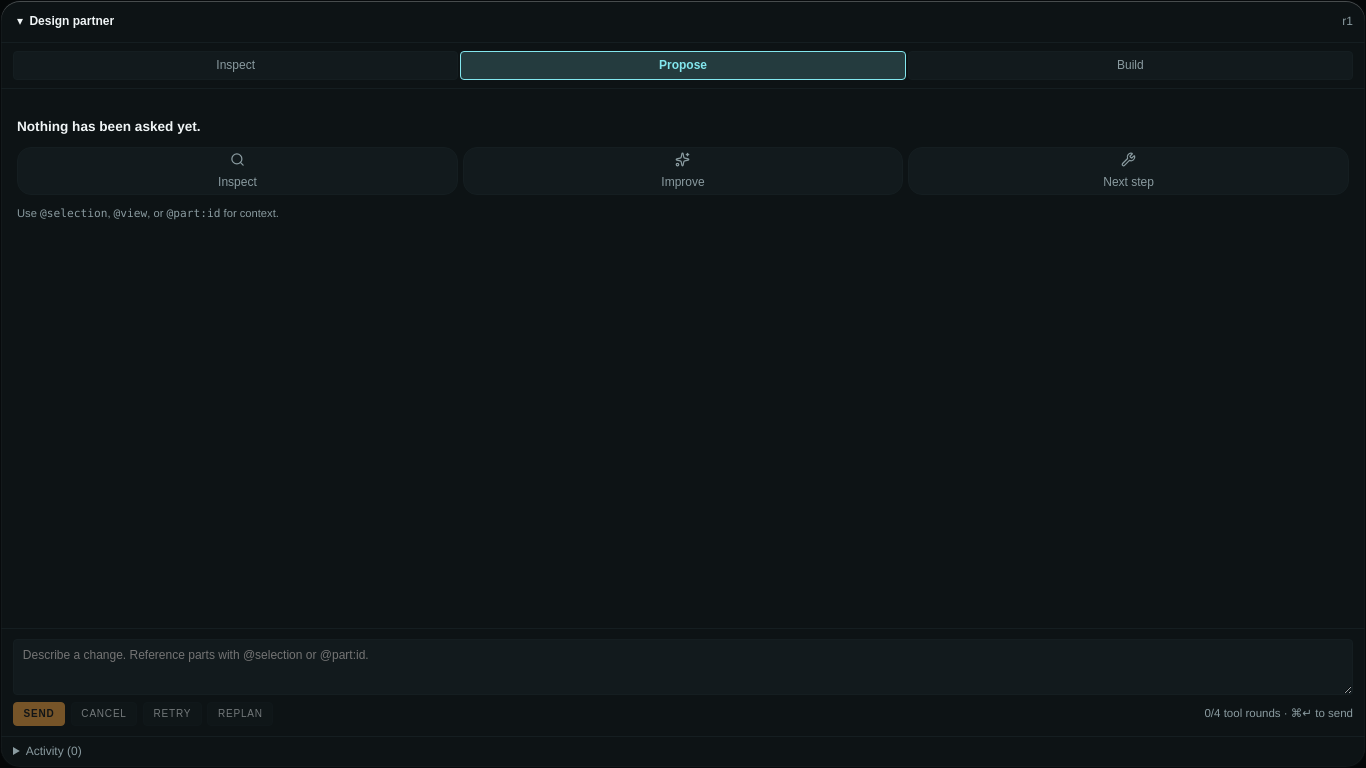
Scenario: AgentWorkbench › reviews a proposed wave, and accepting it moves the document
Replace the text in the text box named "Ask the design partner" with "Rename the project" at {"x": 683, "y": 666}, box [13, 638, 1353, 694]
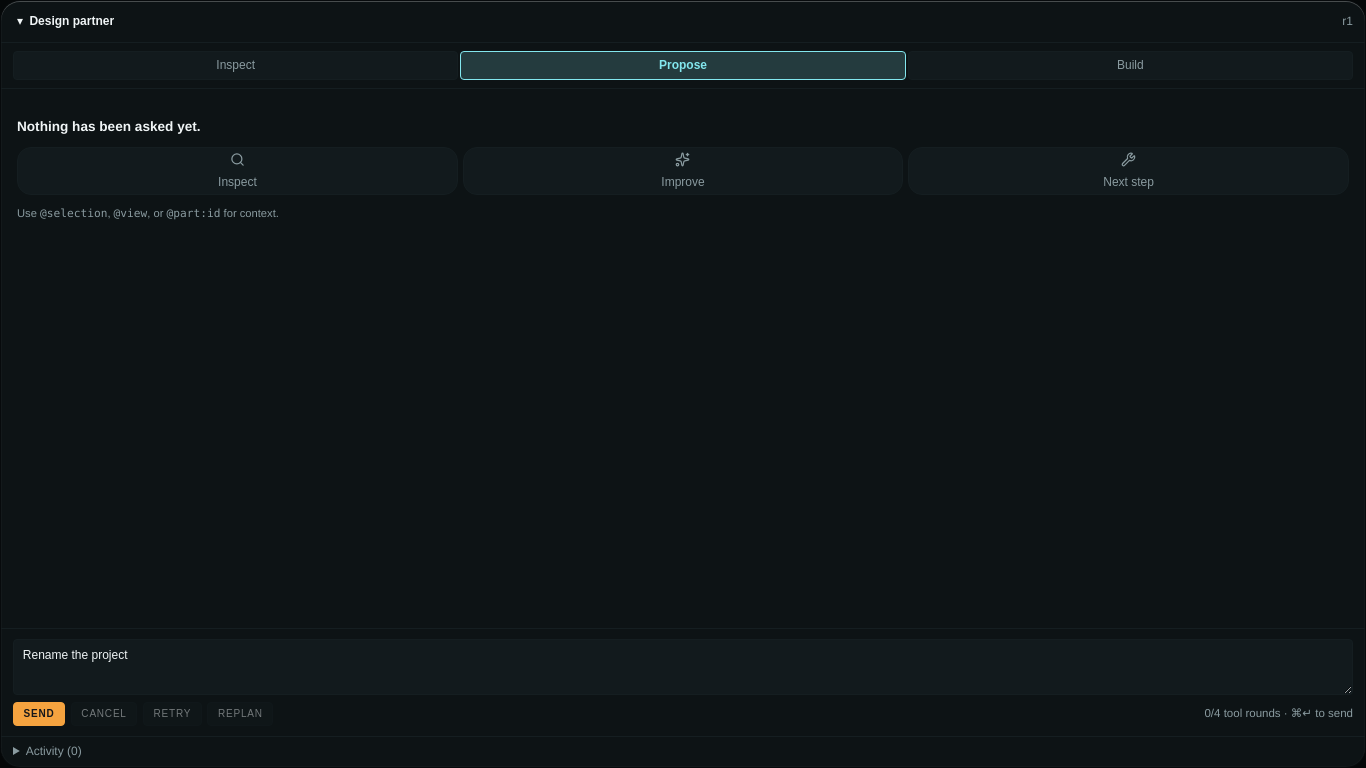
Click the button "Send" at {"x": 39, "y": 714}, box [13, 702, 65, 726]
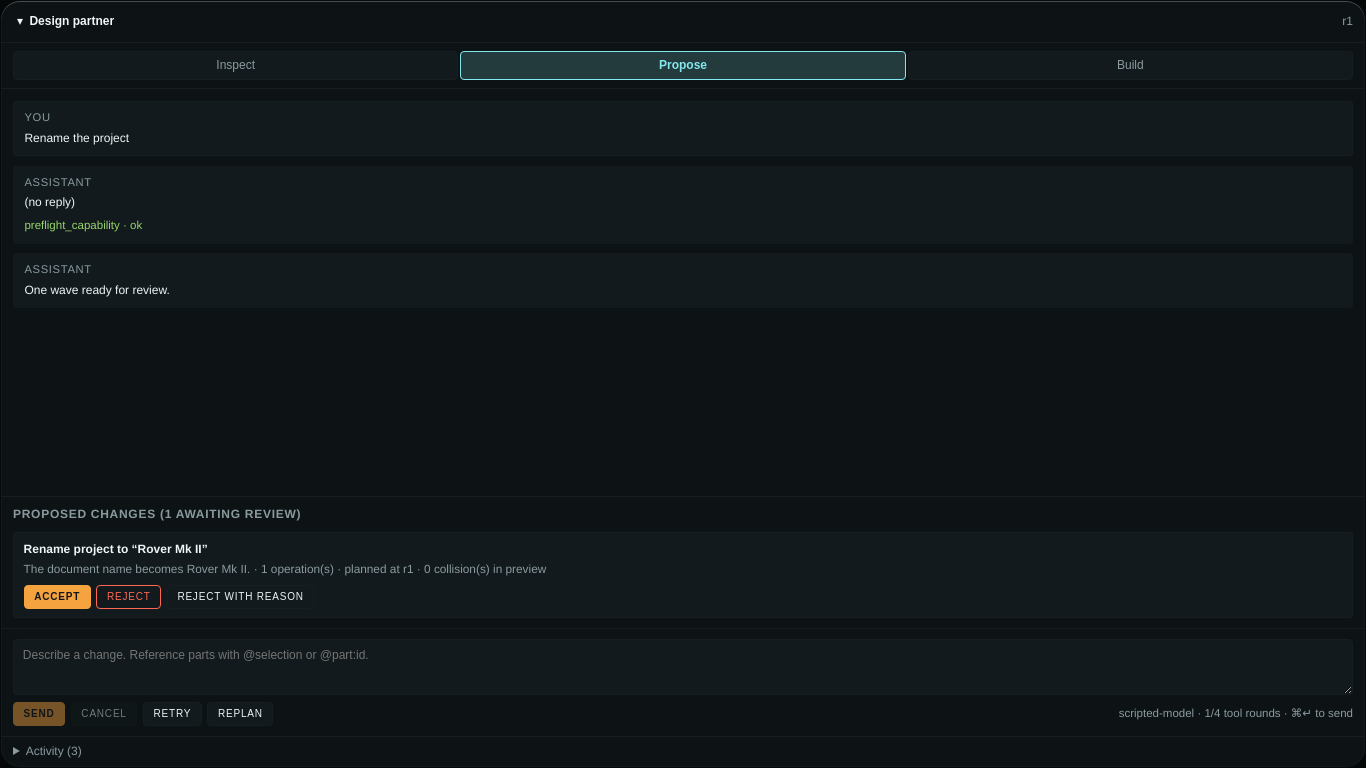
Expected: the text "Rename project to “Rover Mk II”" is shown, [24, 542, 208, 556]
Expected: the text "planned at r1" is shown, [24, 562, 546, 576]
Click the button "Accept" at {"x": 57, "y": 597}, box [24, 585, 91, 609]
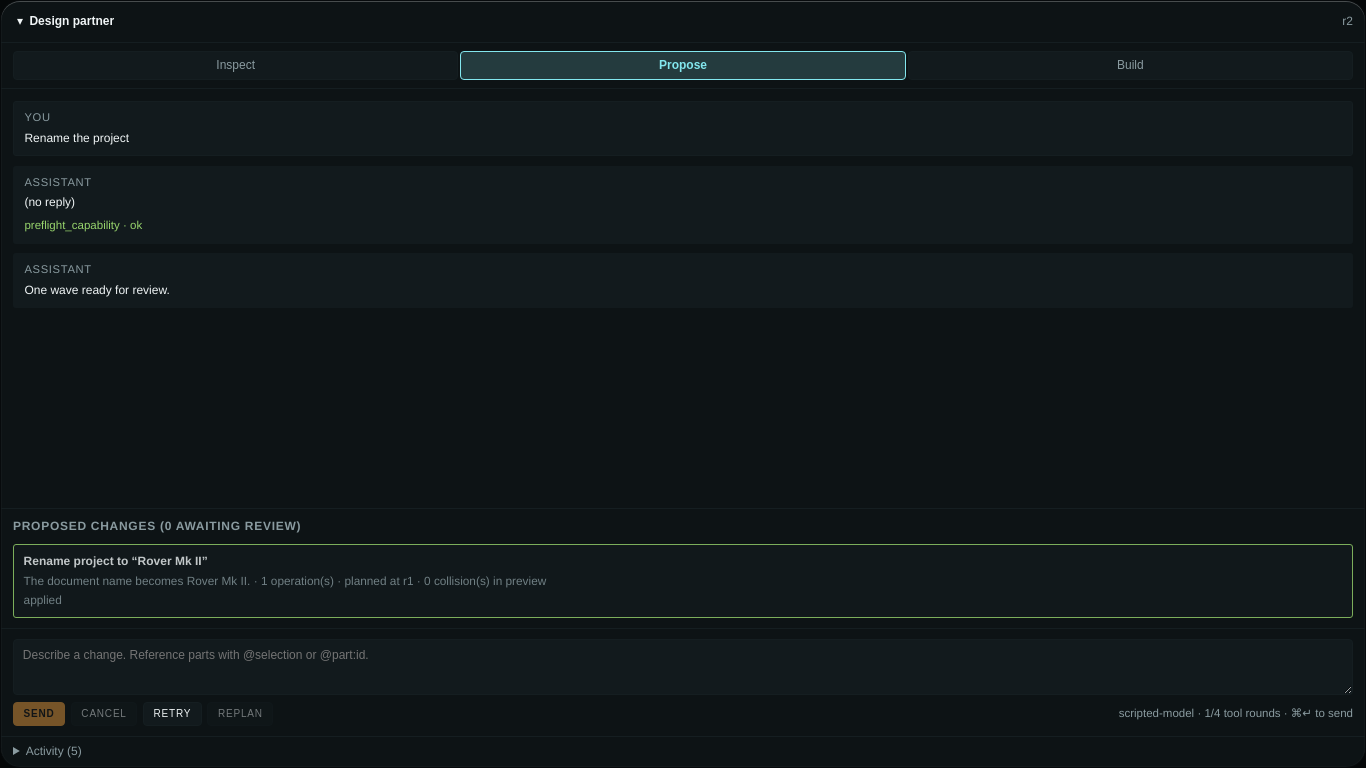
Expected: the text "applied" is shown, [24, 593, 62, 607]
